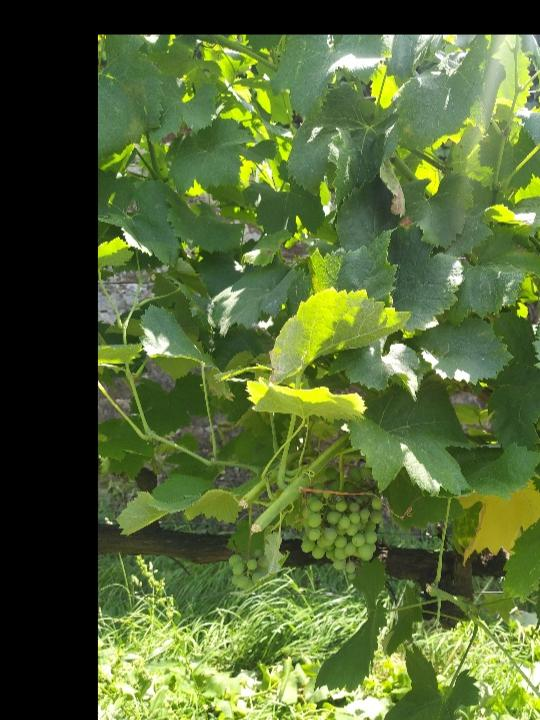grape: (301, 464, 385, 582)
